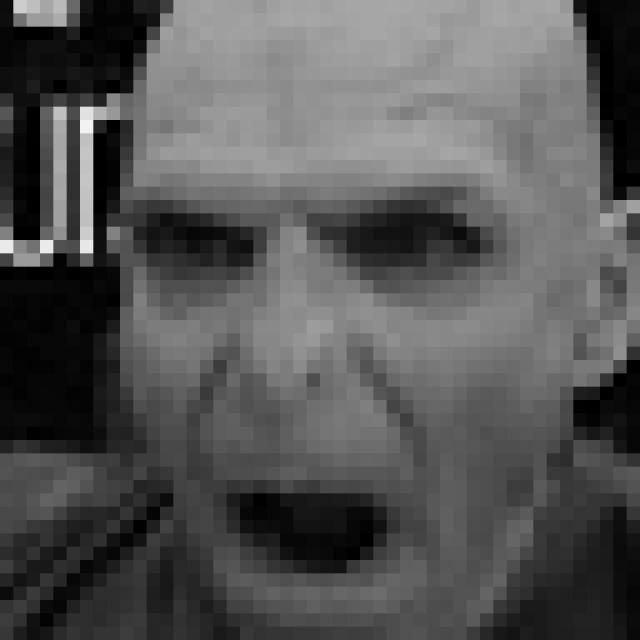angry: (132, 140, 522, 607)
